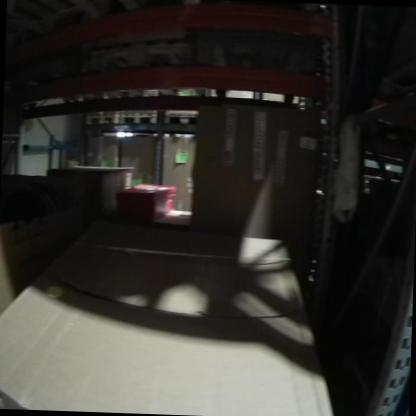pallet: (161, 104, 204, 128), (121, 106, 160, 129), (84, 108, 118, 125)
small_load_carrier: (114, 178, 180, 221)
